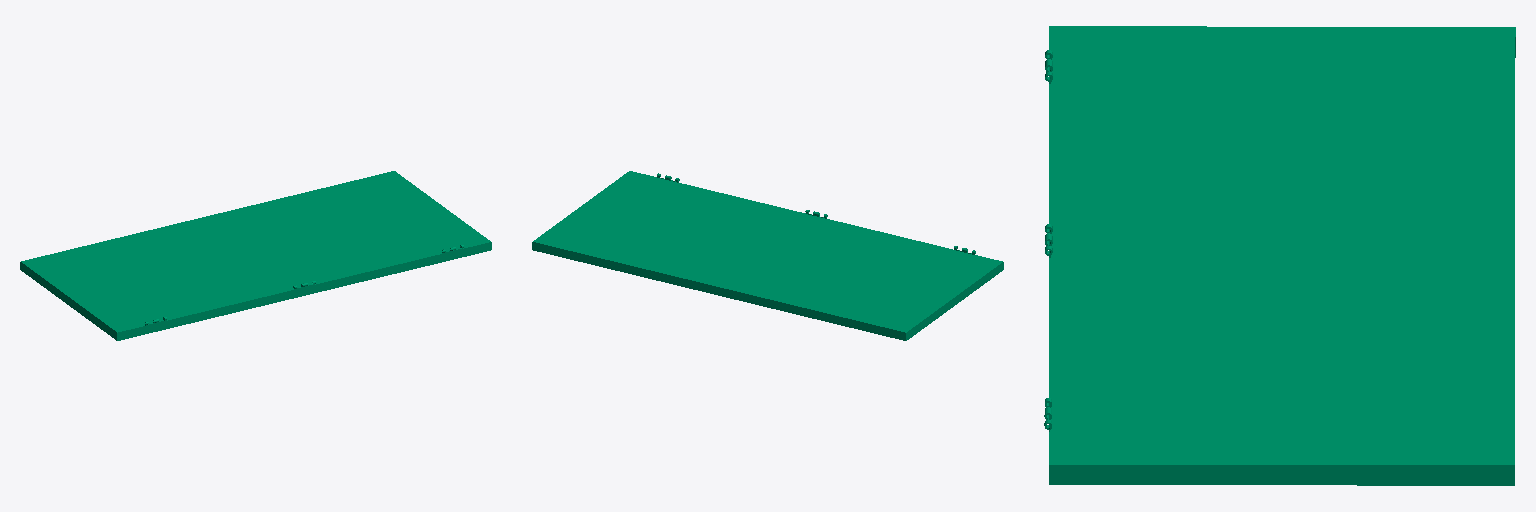
The robot description file, URDF, robot "door_test":
<robot name = 'door_test' xmlns:xacro="http://ros.org/wiki/xacro">
    <!-- <link name = 'world'/> -->
    
    <!-- <joint name = 'world2base' type = 'fixed'>
        <parent link = 'world'/>
        <child link = 'base_link'/>
    </joint> -->

    <link name = 'base_link'/>
        
    <joint name = 'base_joint' type = 'fixed'>
        <parent link = 'base_link'/>
        <origin xyz = '0 -0.5 0.0' rpy='0 0 0'/>
        <!-- if move y : the door will slide -->
        <child link = 'door_frame'/>
    </joint>

    <link name = 'door_frame'>
        <visual>
            <geometry>
                <mesh filename = './meshes/frame.dae'/>
            </geometry>
            <origin xyz = '0 0 0' rpy = '1.57 0 0'/>
            <!-- <color rgba = '0.5 0.5 0.5 1.0'/> -->
        </visual>
        <!-- <collision name = "door frame_collision">
            <geometry>
                <mesh filename = './meshes/frame.dae'/>
                <origin xyz = '0.5 0 0' rpy = '1.57 0 0'/>
            </geometry>
        </collision> -->
        <collision name="side_1_:hinge_side">
            <geometry>
                <box size = '0.05029 0.06858 2.10820'/>
            </geometry>
            <origin xyz = '-0.02 0.02 1.05' rpy = '0 0 0'/>
        </collision>
        <collision name="side_2">
            <geometry>
                <box size = '0.05029 0.06858 2.10820'/>
            </geometry>
            <origin xyz="-0.02 1.02 1.05" rpy="0 0 0"/>
        </collision>
        <collision name="top">
            <geometry>
                <box size = '0.05029 0.92964 0.07366'/>
            </geometry>
            <origin xyz="-0.02 0.52 2.05820" rpy="0 0 0"/>
        </collision>
        <inertial>
            <origin xyz="0 0 0" rpy="0 0 0"/>
            <mass value="10000.0"/>
            <inertia ixx="0.0" ixy="0.0" ixz="0.0" iyy="0.0" iyz="0.0" izz="0.0"/>
        </inertial>
    </link>

    <joint name = 'door_hinge' type = 'revolute'>
        <axis xyz = '0 0 1' rpy = '0 0 0 '/>
        <origin xyz = '-0.07 0.06858 2.040'/>
        <limit lower = '0' upper = '1.57' effort='10000' velocity="100.00"/>
        <dynamics damping="10.0" friction="0.0"/>
        <parent link = 'door_frame'/>
        <child link = 'door'/>
    </joint>

    <link name = 'door'>
        <visual>
            <geometry>
                <mesh filename = './meshes/door.dae'/>
            </geometry>
            <origin xyz = '-0.05 0 0' rpy = '-1.57 0 1.57'/>
            <color rgba = '0.5 0.5 0.5 1.0'/>
        </visual>
        <collision name="door_collision">
            <geometry>
                <mesh filename = './meshes/door.dae'/>
            </geometry>
            <origin xyz = '-0.05 0 0' rpy = '-1.57 0 1.57'/>
        </collision>
        <inertial>
            <origin xyz="0.4569 0.0349 1.016" rpy="0 0 0"/>
            <mass value="41.3256"/>
            <inertia ixx="14.2053" ixy="0.0004" ixz="0.0000" iyy="17.1997" iyz="0.0000" izz="3.0298"/>
        </inertial>
    </link>

    <joint name = 'door_handle' type = 'revolute'>
        <axis xyz = '1 0 0' rpy = '0 0 0 '/>
        <parent link = 'door'/>
        <origin xyz = '0.035 0.75 -1.02'/>
        <limit lower = '0' upper = '0.5236' effort='100' velocity="1000.00"/>
        <dynamics damping="0.0" friction="0.0"/>
        <child link = 'door_handles'/>
    </joint>

    <link name = 'door_handles'>
        <visual>
            <geometry>
                <mesh filename = './meshes/door_handle.dae'/>
            </geometry>
            <origin xyz = '0 0 0' rpy = '0 3.141592 1.57'/>
            <color rgba = '0.55 0.5 0.5 1.0'/>
        </visual>
        <visual>
            <geometry>
                <mesh filename = './meshes/door_handle.dae'/>
            </geometry>
            <origin xyz = '0.04 0 0' rpy = '0 0 -1.57'/>
             <color rgba = '0.5 0.5 0.5 1.0'/>
        </visual>
        <collision name="door_handles_collision">
            <geometry>
                <mesh filename="./meshes/door_handle.dae"/>
            </geometry>
            <origin xyz = '0 0 0' rpy = '0 3.141592 1.57'/>
        </collision>
        <collision name="door_handles_collision">
            <geometry>
                <mesh filename="./meshes/door_handle.dae"/>
            </geometry>
            <origin xyz = '0.045 0 0' rpy = '0 0 -1.57'/>
        </collision>
        <inertial>
            <origin xyz="0.0 0.0 0.0" rpy="3.14159 0 1.57"/>
            <mass value="1.0"/>
            <!-- <inertia ixx="14.2053" ixy="0.0004" ixz="0.0000" iyy="17.1997" iyz="0.0000" izz="3.0298"/> -->
        </inertial>
    </link>
    
    <joint name = 'handle2latch' type = 'fixed'>
        <parent link = 'door_handles'/>
        <child link = 'door_latch'/>
    </joint>

    <link name='door_latch'>
        <collision>
            <geometry>
                <box size='0.001 0.14 0.01'/>
            </geometry>
            <origin xyz = '0.043 0.1 0' rpy = '0 0 0'/>
        </collision>
    </link>
    <!-- <gazebo reference="world">
        <material>Gazebo/Red</material>
    </gazebo> -->

</robot>

--- What the picture shows (computed from the rendered views, not written in the file) ---
3 views of the same robot in one strip: view 1: azimuth 30°, elevation 25°; view 2: azimuth 150°, elevation 25°; view 3: azimuth 270°, elevation 25° (orthographic).
Robot: door_test — 5 links, 4 joints (2 revolute, 2 fixed); root link base_link; default pose: all joints at 0.
Visible links, largest first — view 1: door; view 2: door; view 3: door.
Boxes of the visible links, x1,y1,x2,y2 form: door: (20, 171, 491, 340); door: (532, 171, 1003, 340); door: (1044, 26, 1515, 485).
Bounding box of the posed robot: 2.03 × 0.9242 × 0.0664 m (x, y, z).
1 mesh visuals loaded from 3 distinct referenced files (1 Collada DAE); not drawn: 3 (reference not matched to a file when rendering).